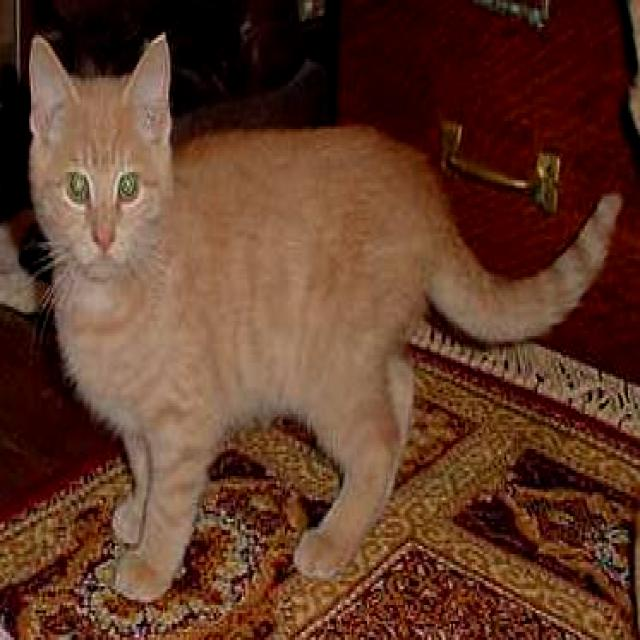Kucing: (14, 17, 633, 621)
